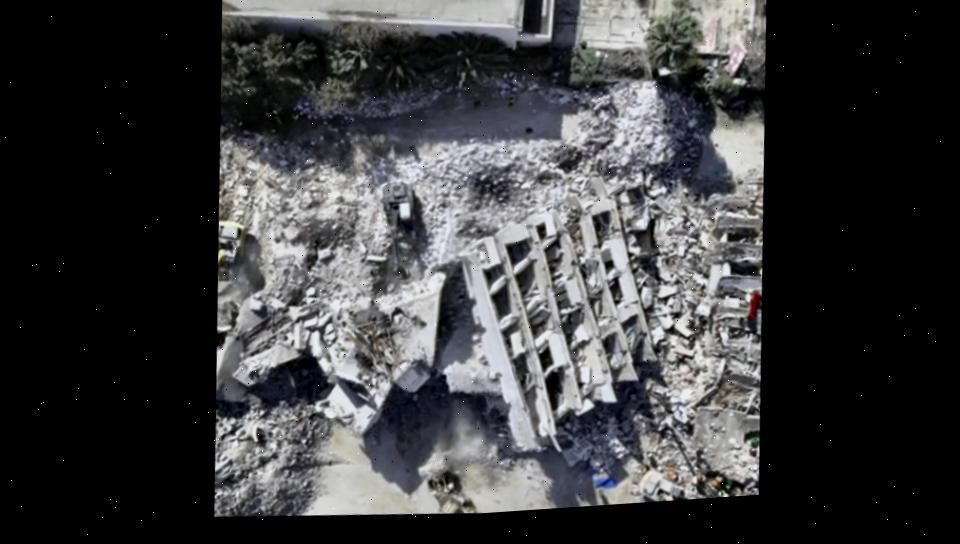kapali: (506, 80, 764, 199)
